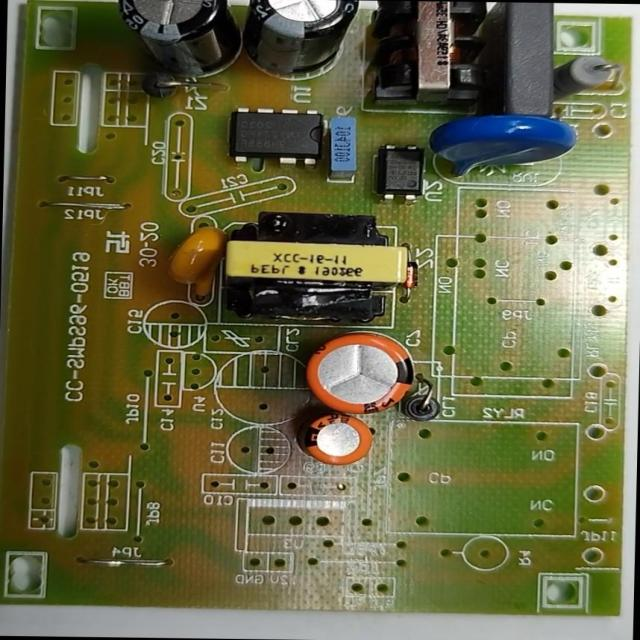Cap1: (298, 328, 422, 418)
Cap2: (302, 406, 378, 471)
Cap3: (242, 0, 366, 90)
Cap4: (110, 0, 243, 82)
MOSFET: (229, 103, 330, 171)
Mov: (420, 110, 588, 174)
Resistor: (555, 51, 616, 101)
Transformer: (220, 207, 413, 326), (360, 1, 498, 113)
